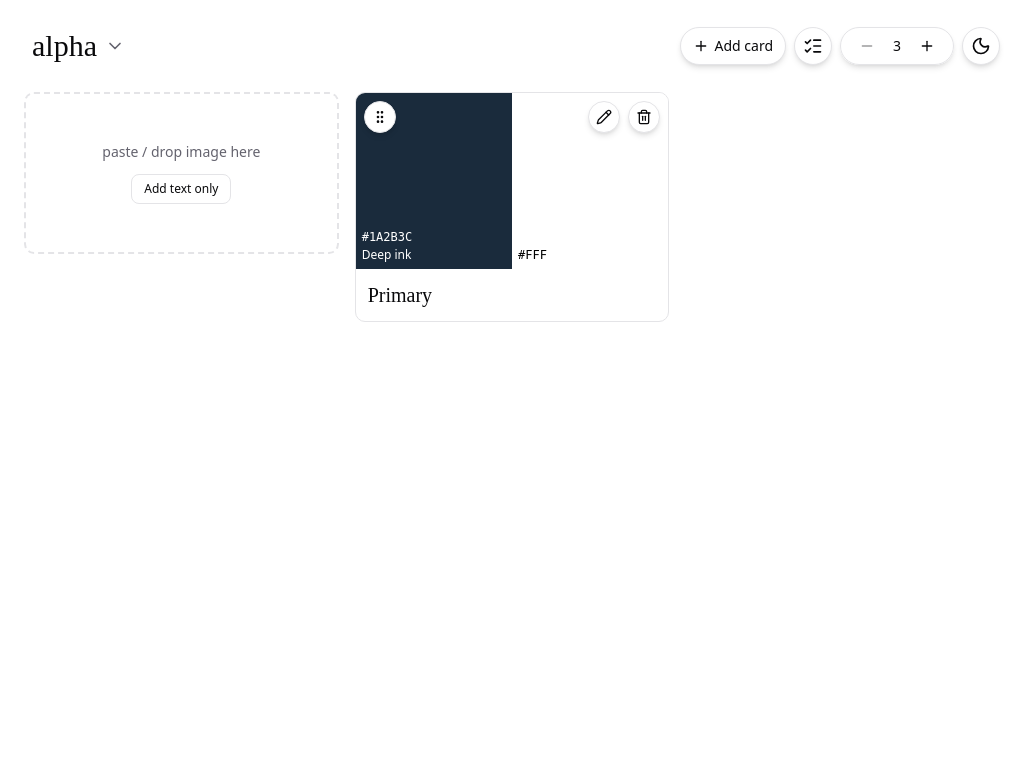
Test case: editing a card › opens the same form filled in, sends the new card to the item's key, and shows the change
Expected: the button with aria-label "Brand" is shown, x1=24 y1=24 x2=133 y2=68
Step 1. Click the button named "Edit Primary" → (604, 117), box x1=588 y1=101 x2=620 y2=133
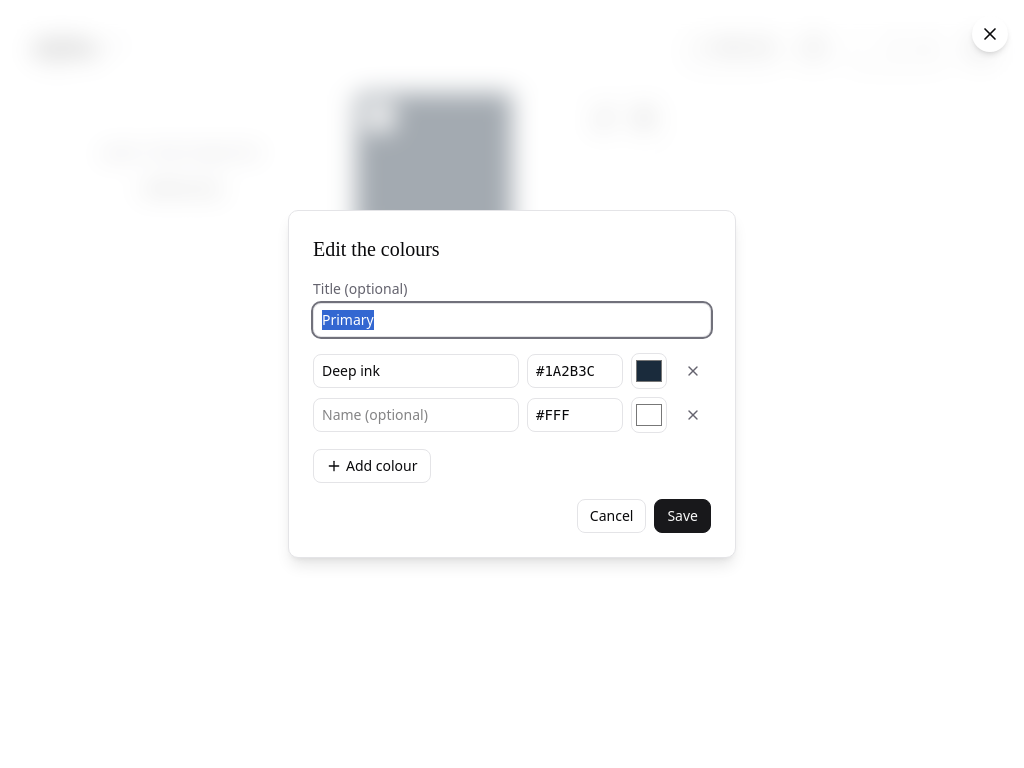
Result: the heading "Edit the colours" is shown at x1=313 y1=238 x2=440 y2=260
Result: the field labelled "Title (optional)" holds "Primary" at x1=313 y1=303 x2=711 y2=337
Result: the field named "Colour 1 hex" holds "#1A2B3C" at x1=527 y1=354 x2=623 y2=388
Step 2. Replace the text in the field named "Colour 2 hex" with "#eeeeee" → (575, 415), box x1=527 y1=398 x2=623 y2=432
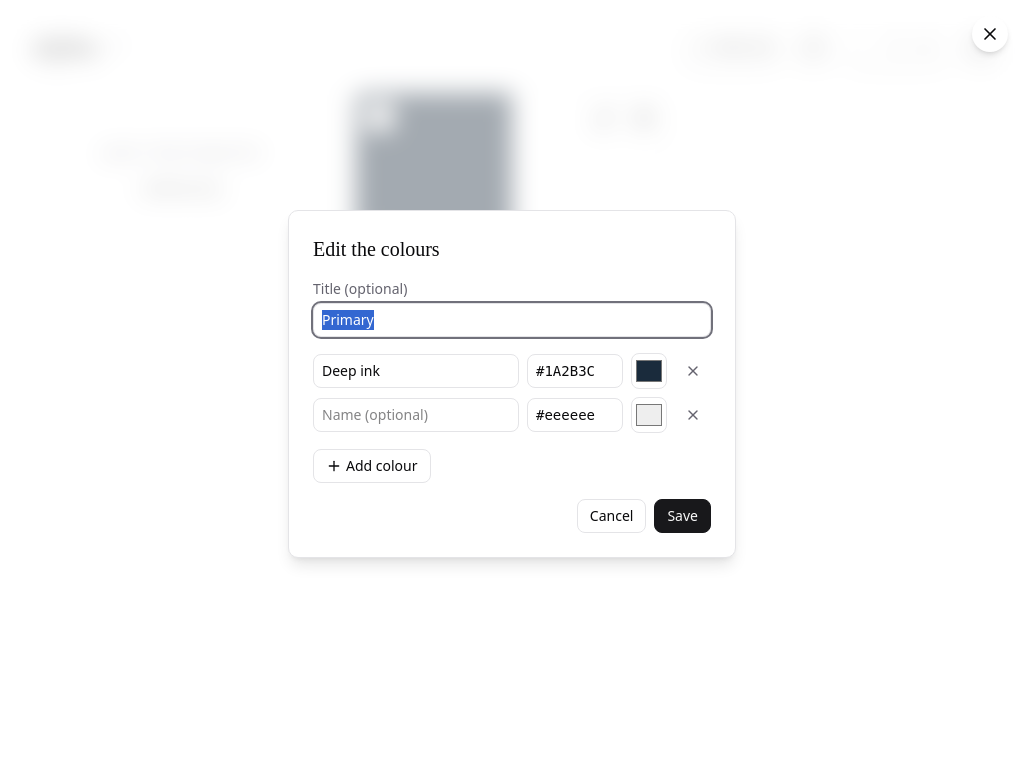
Step 3. Click the button "Save" → (683, 516), box x1=654 y1=499 x2=711 y2=533
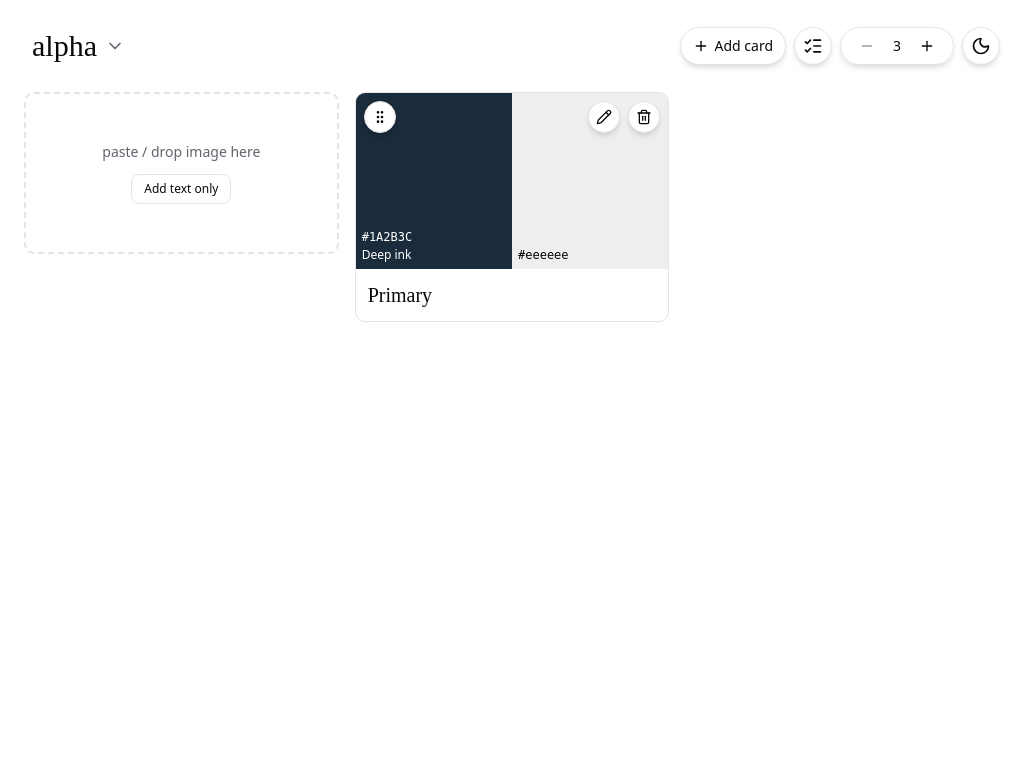
Result: the button with aria-label "Copy #eeeeee" is shown at x1=512 y1=93 x2=668 y2=269
Result: the dialog is gone
